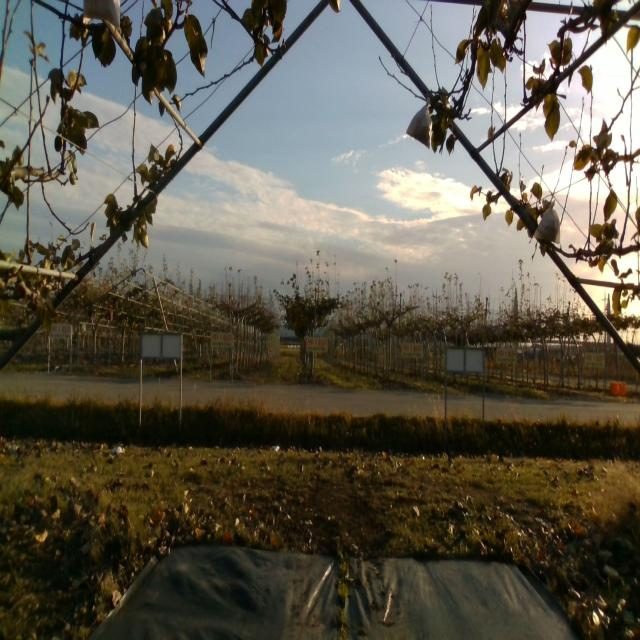pearbags: (532, 201, 560, 246), (406, 99, 432, 147)
